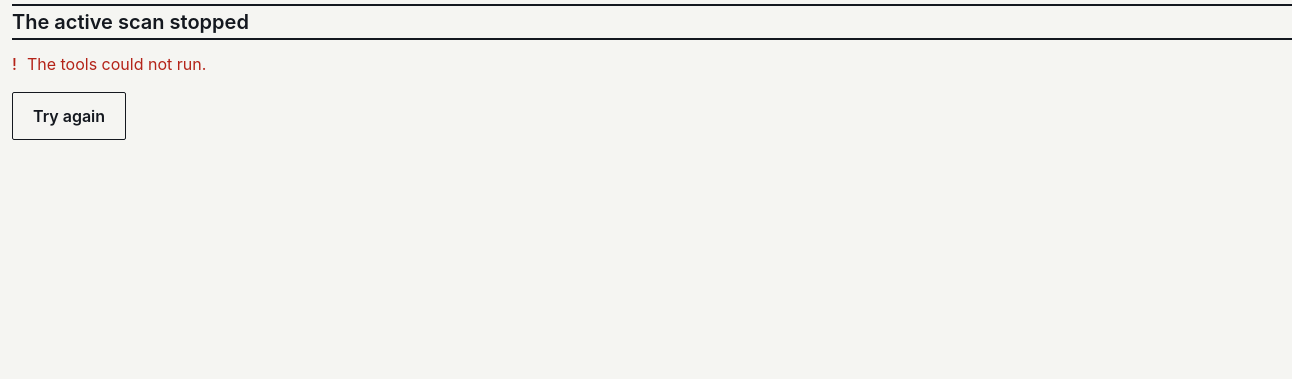
ActiveScan › offers to try again when the scan stops
The width and height of the screenshot is (1292, 379).
Earlier steps of the test are not shown.
Expected: the heading "The active scan stopped" is shown, [12,10,249,34]
Expected: the message shows "The tools could not run.", [27,54,206,74]
Click the button "Try again" at (69, 116), box [12,92,126,140]
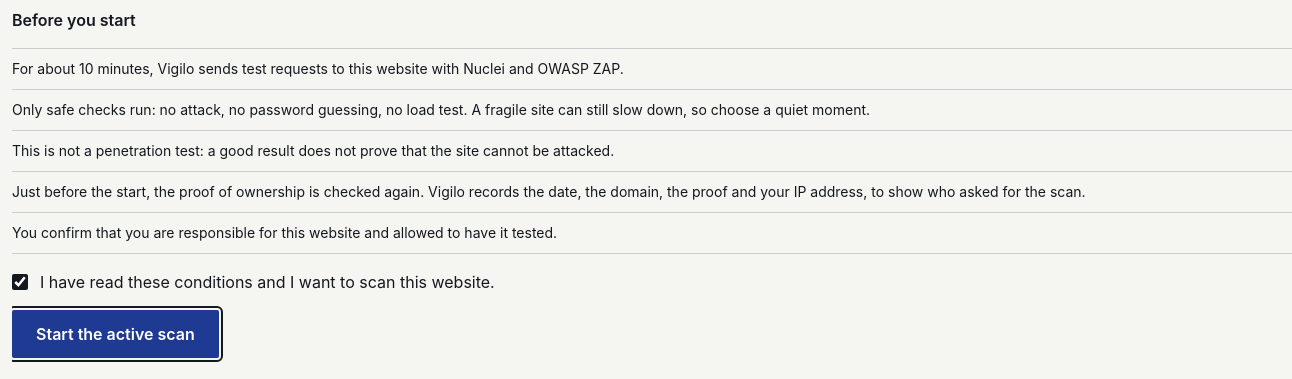
Expected: the button "Start the active scan" is shown, [12,310,219,358]
